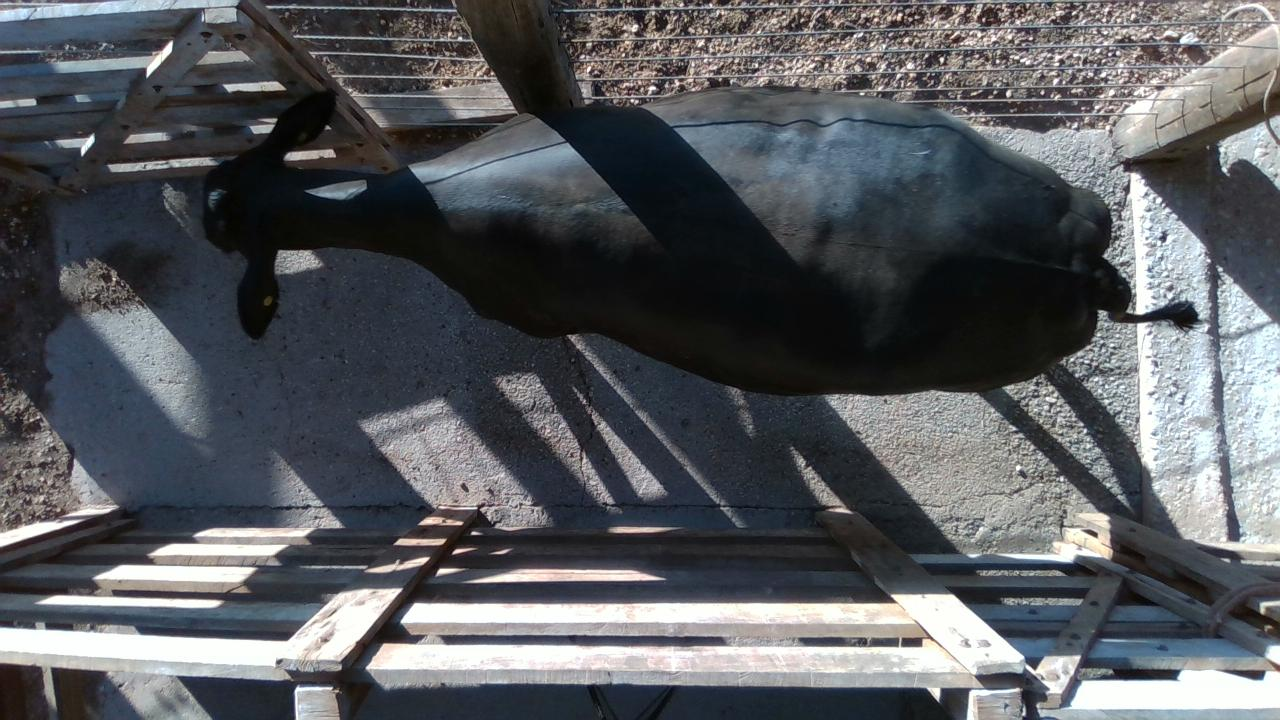cattle: (200, 82, 1200, 398)
